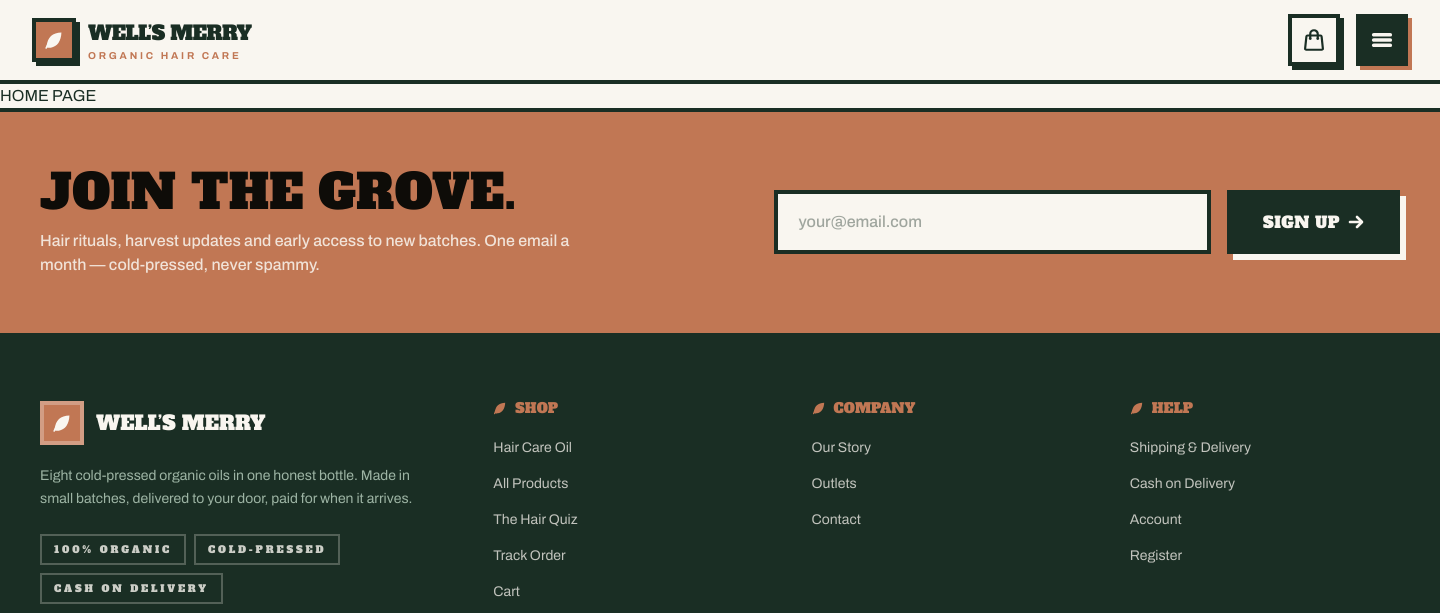
Test case: Navbar overlay › closes before navigating when 'Our Story' is clicked
Click the button named "open menu".
click(1382, 40)  # box [1356,14,1408,66]
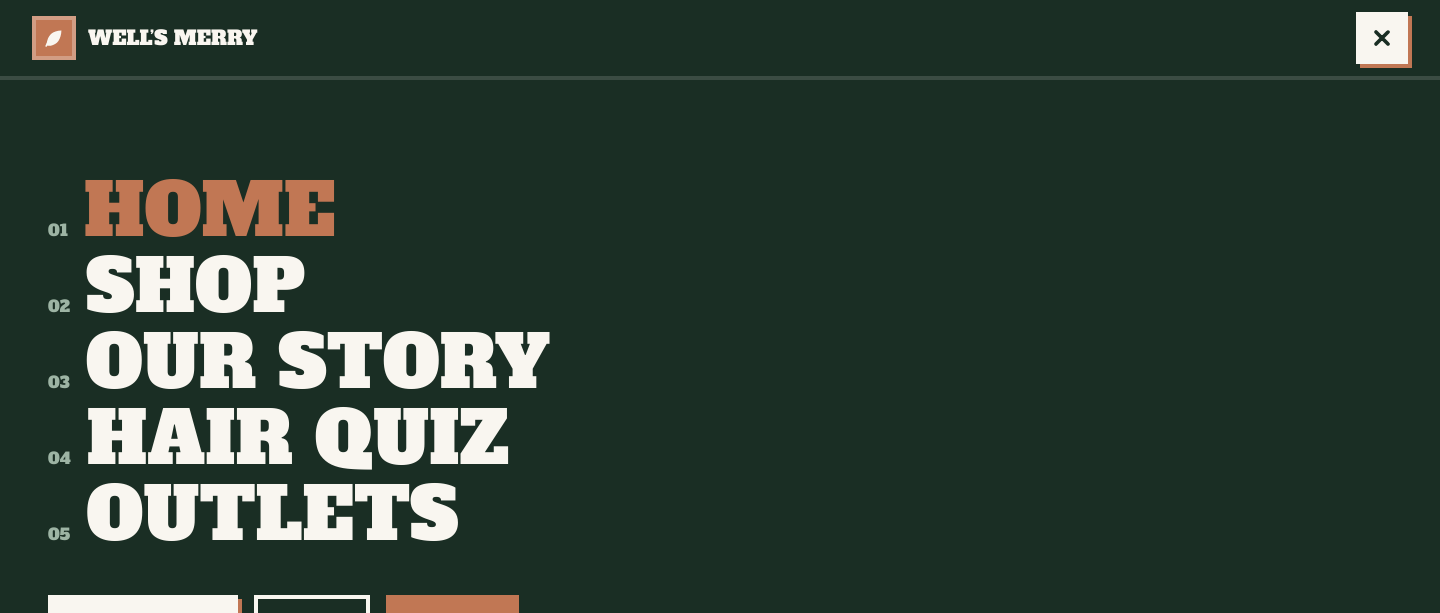
Click the link "03 Our Story".
click(299, 362)  # box [48,313,550,412]
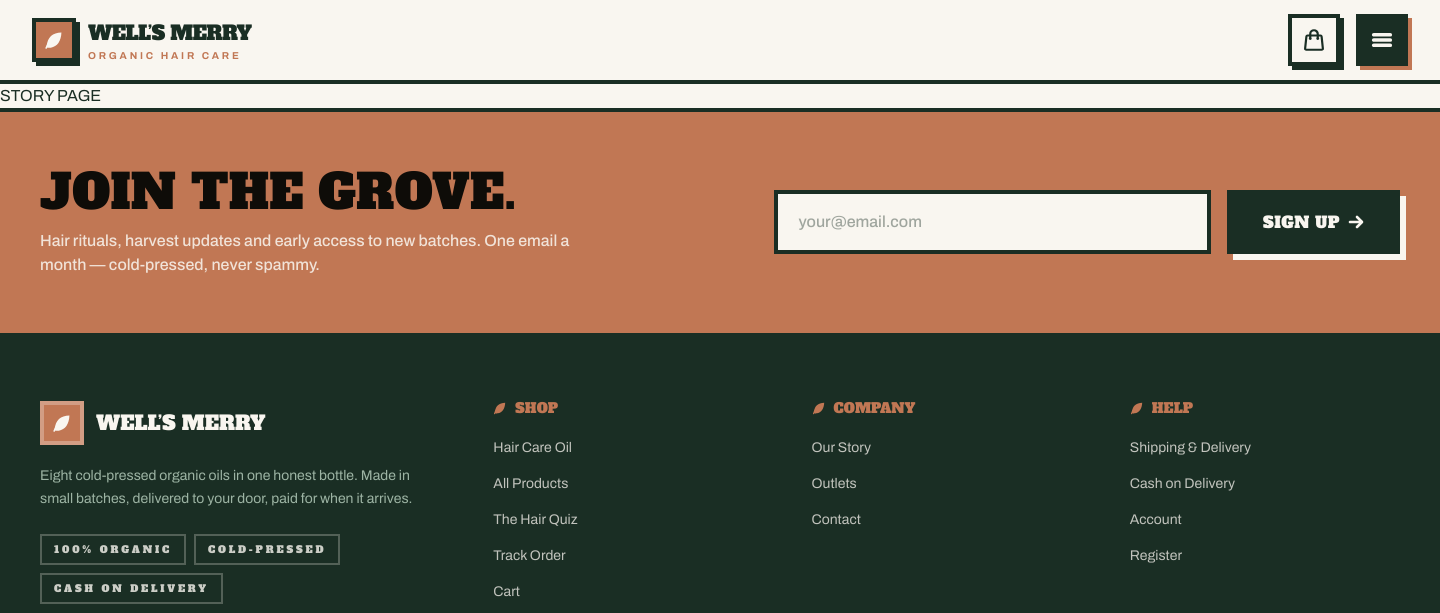
Check: the text "STORY PAGE" is shown, box [0,87,101,104]
